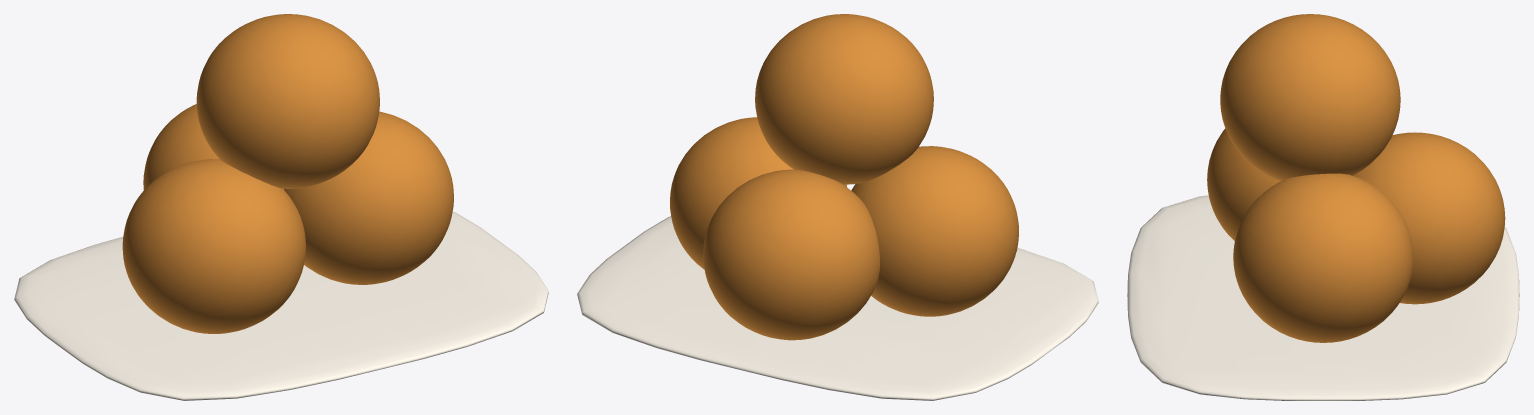
The model's file is comida_bunuelos.glb.
The picture shows the model from 3 angles, left to right: view 1: azimuth 30°, elevation 25°; view 2: azimuth 150°, elevation 25°; view 3: azimuth 270°, elevation 25°; orthographic projection. The views are drawn at different scales.
Visible parts, largest first — view 1: servilleta.001, buñuelo 3.001, buñuelo 0.001, buñuelo 1.001, buñuelo 2.001; view 2: servilleta.001, buñuelo 2.001, buñuelo 3.001, buñuelo 0.001, buñuelo 1.001; view 3: servilleta.001, buñuelo 1.001, buñuelo 3.001, buñuelo 2.001, buñuelo 0.001.
Part boxes in pixels (bbox=[...]): servilleta.001: bbox=[14, 211, 548, 400]; buñuelo 3.001: bbox=[196, 14, 379, 188]; buñuelo 0.001: bbox=[122, 159, 305, 333]; buñuelo 1.001: bbox=[284, 111, 453, 284]; buñuelo 2.001: bbox=[143, 104, 283, 190]; servilleta.001: bbox=[577, 216, 1098, 400]; buñuelo 2.001: bbox=[703, 169, 879, 340]; buñuelo 3.001: bbox=[755, 14, 933, 184]; buñuelo 0.001: bbox=[851, 146, 1018, 316]; buñuelo 1.001: bbox=[670, 117, 846, 269]; servilleta.001: bbox=[1127, 195, 1519, 400]; buñuelo 1.001: bbox=[1233, 173, 1413, 342]; buñuelo 3.001: bbox=[1220, 14, 1400, 180]; buñuelo 2.001: bbox=[1353, 132, 1505, 304]; buñuelo 0.001: bbox=[1207, 128, 1280, 240].
Bounding box in the file's own units: 0.3799 × 0.235 × 0.2999.
